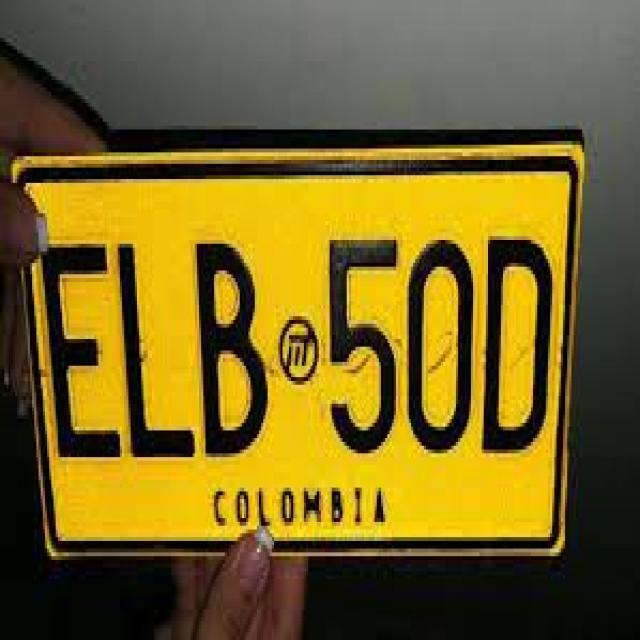placa_moto: (5, 143, 582, 562)
